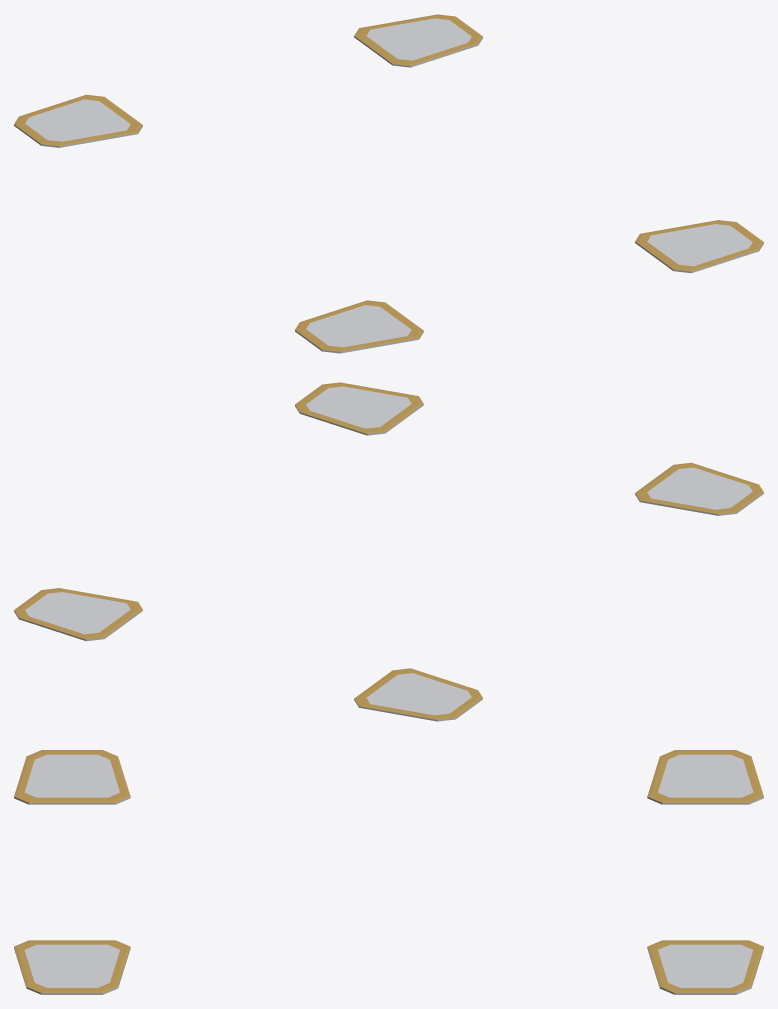
File: bridge_landing_plazas.glb
3 renders of one model, top to bottom at view 1: azimuth 30°, elevation 25°; view 2: azimuth 150°, elevation 25°; view 3: azimuth 270°, elevation 25°, orthographic. The views are drawn at different scales.
Parts seen in each view (by area): view 1: Bridge_Landing_Plazas; view 2: Bridge_Landing_Plazas; view 3: Bridge_Landing_Plazas.
Part boxes in pixels (x1,y1,x2,y2): Bridge_Landing_Plazas: [14, 14, 763, 353]; Bridge_Landing_Plazas: [14, 382, 763, 721]; Bridge_Landing_Plazas: [14, 750, 763, 994].
Bounding box in the file's own units: 6.9 × 0.0285 × 9.
